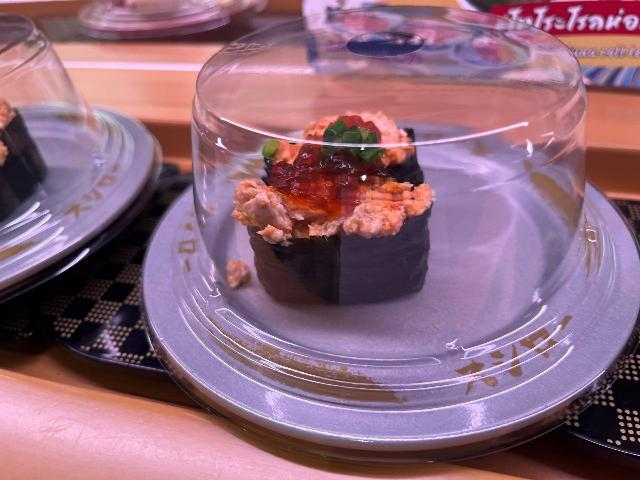janwhite: (153, 153, 611, 398), (12, 93, 131, 264)
